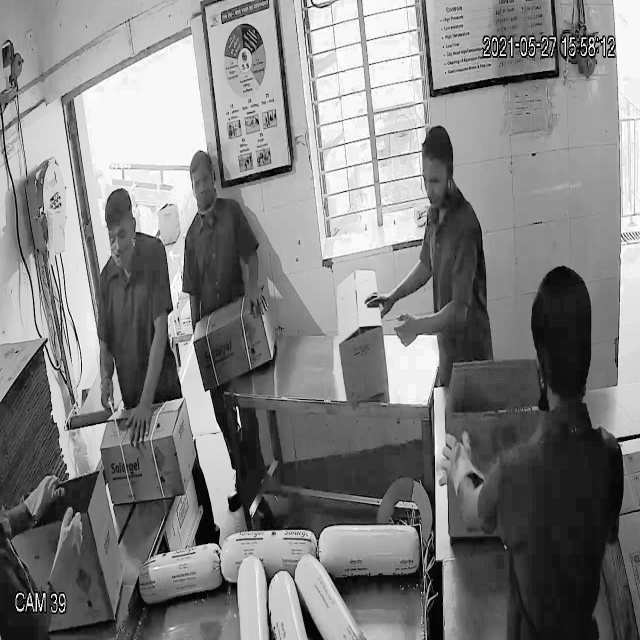Sin_gafas: (417, 166, 457, 199), (103, 219, 138, 252), (185, 169, 221, 201)
